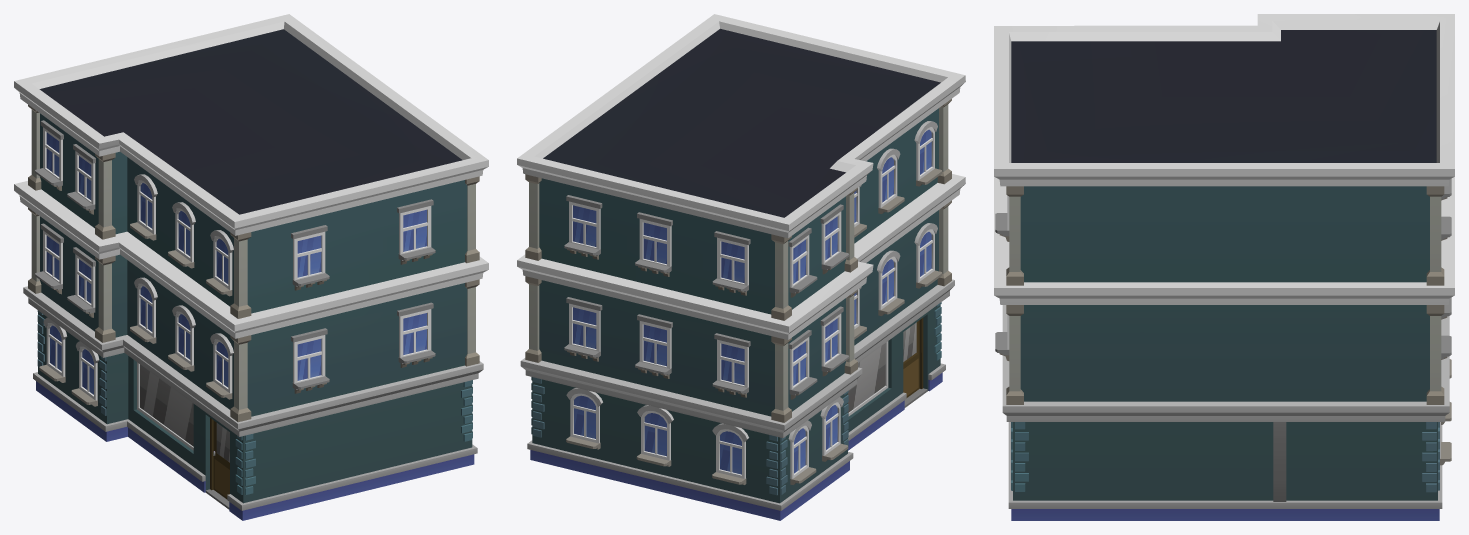
Rendered from Building_1_3_B.fbx.
The picture shows the model from 3 angles, left to right: view 1: azimuth 30°, elevation 25°; view 2: azimuth 150°, elevation 25°; view 3: azimuth 270°, elevation 25°; orthographic projection. The views are drawn at different scales.
Visible parts, largest first — view 1: Building_1_3_B; view 2: Building_1_3_B; view 3: Building_1_3_B.
Part boxes in pixels (<box>): Building_1_3_B: <box>14,14,488,520</box>; Building_1_3_B: <box>517,14,965,520</box>; Building_1_3_B: <box>994,14,1454,520</box>.
Bounding box in the file's own units: 841 × 900 × 1057.
